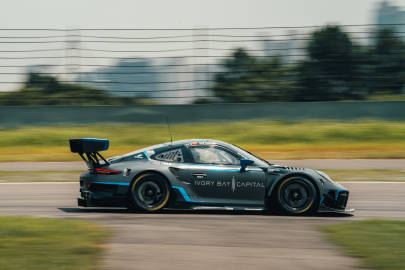other: (71, 130, 354, 219)
